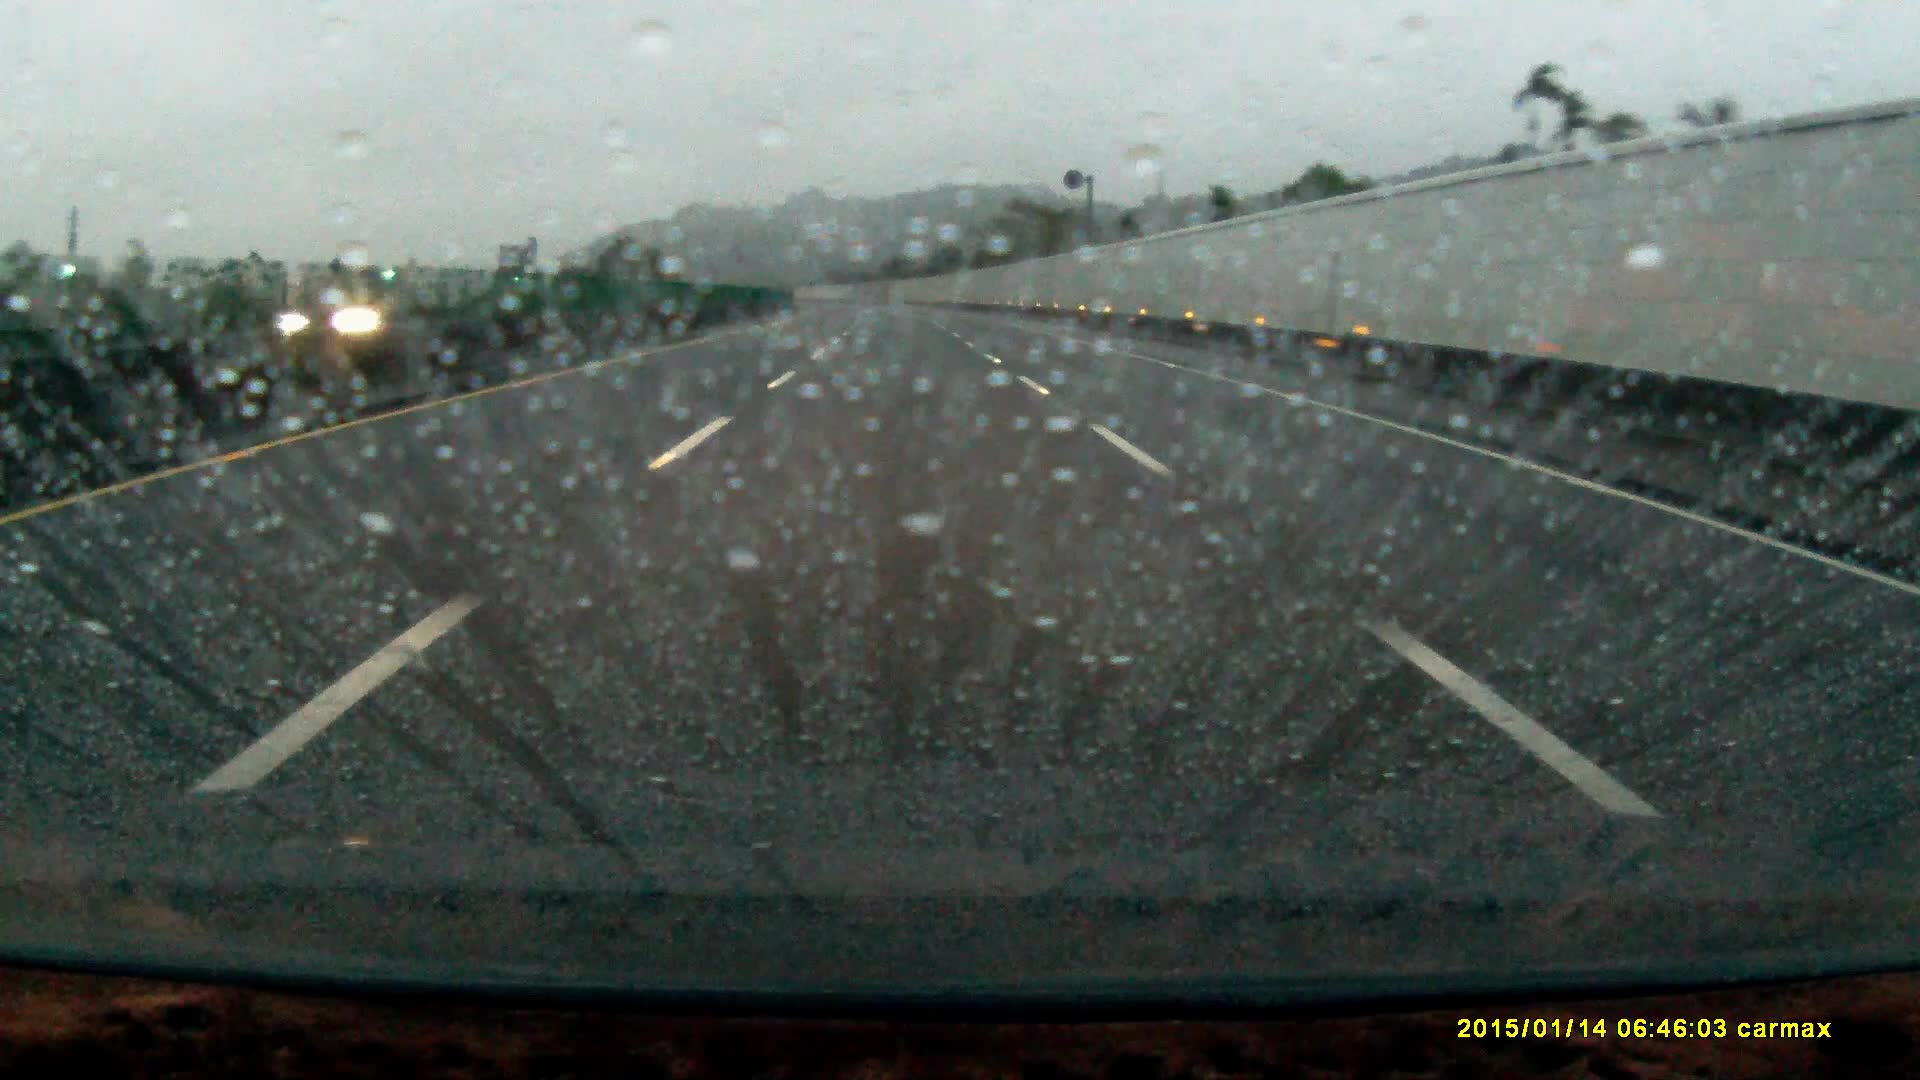vehicle: (274, 290, 380, 338)
